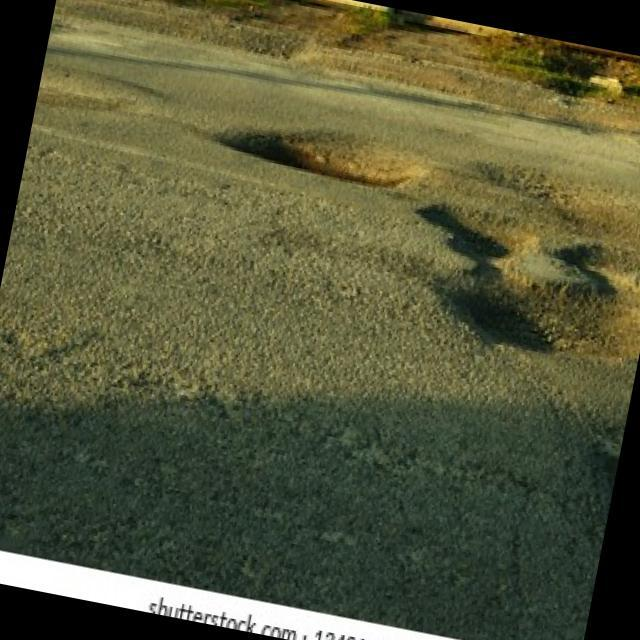Pothole: (414, 232, 640, 378), (460, 152, 640, 273), (215, 105, 433, 202), (567, 403, 629, 592), (412, 195, 545, 268), (34, 62, 162, 136)
